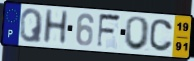6: (75, 13, 95, 48)
C: (148, 18, 174, 53)
F: (95, 13, 123, 50)
H: (41, 8, 70, 45)
O: (123, 15, 152, 51)
Q: (19, 8, 44, 44)
